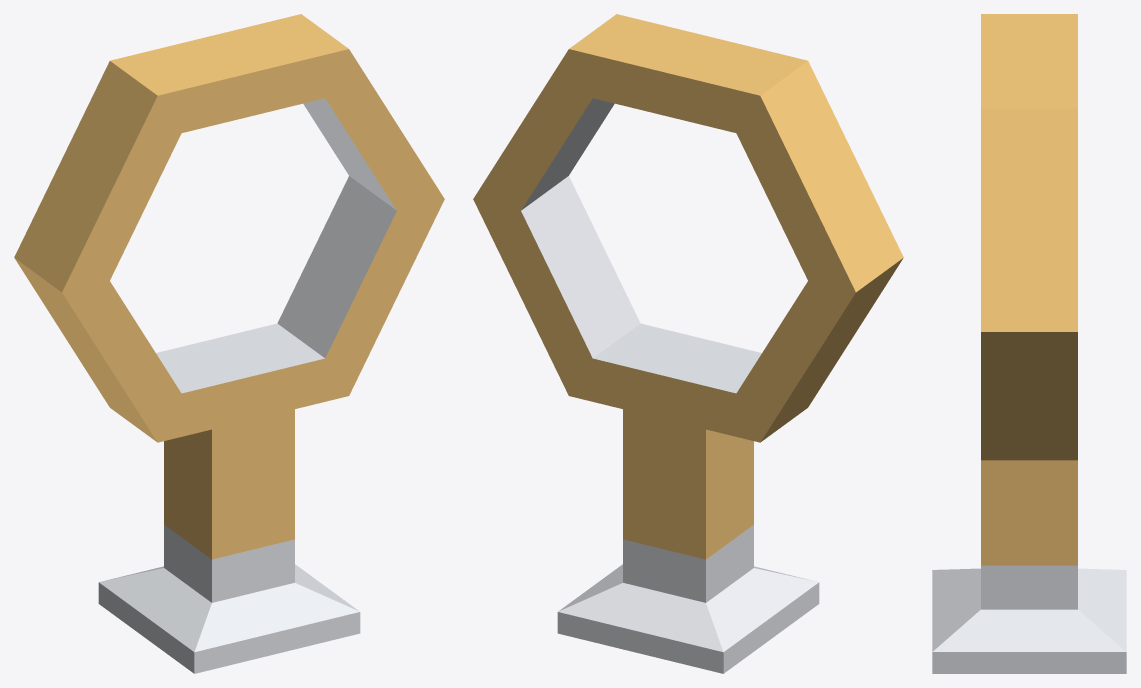
The model's file is pipe_ringSupport.glb.
3 renders of one model, left to right at view 1: azimuth 30°, elevation 25°; view 2: azimuth 150°, elevation 25°; view 3: azimuth 270°, elevation 25°, orthographic.
Parts seen in each view (by area): view 1: pipe_ringSupport; view 2: pipe_ringSupport; view 3: pipe_ringSupport.
Part boxes in pixels (bbox=[...]): pipe_ringSupport: bbox=[14, 14, 444, 673]; pipe_ringSupport: bbox=[473, 14, 903, 673]; pipe_ringSupport: bbox=[932, 14, 1126, 673].
Size of the model in its own units: 0.9238 by 1.3 by 0.4.
Materials: 1 (1 with a texture image).
